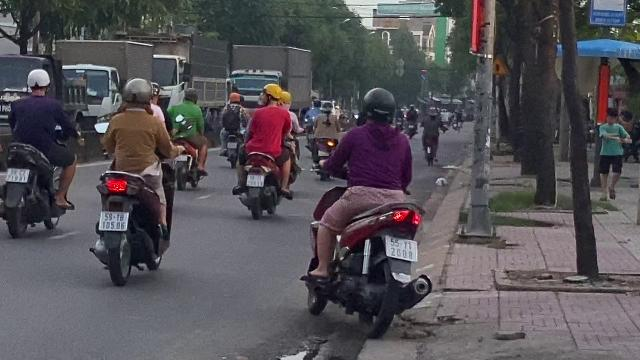helmet: (358, 87, 398, 125), (119, 78, 153, 110), (25, 68, 51, 96), (260, 82, 284, 106)
licenseplate: (386, 236, 418, 264), (99, 211, 127, 229), (6, 168, 28, 182), (248, 175, 264, 187)
motorcyclist: (298, 84, 434, 346), (87, 75, 177, 286), (0, 67, 78, 237), (232, 82, 300, 219)
